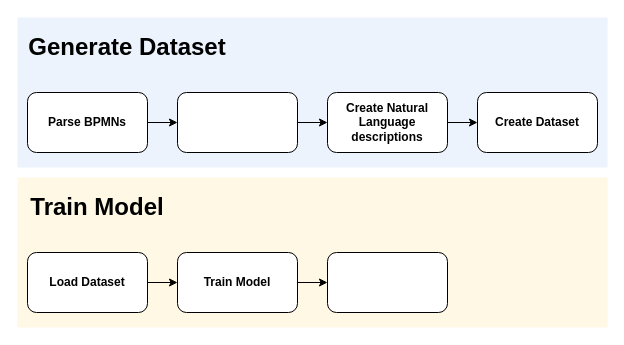
Image size: 624x345. Some labels were removed from this diagram. Each missing label, with the centre of its shape:
Identify verbs and objects (FreeLing): point 237,122
Test Model: point 387,282
